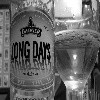beer: (53, 5, 100, 98)
